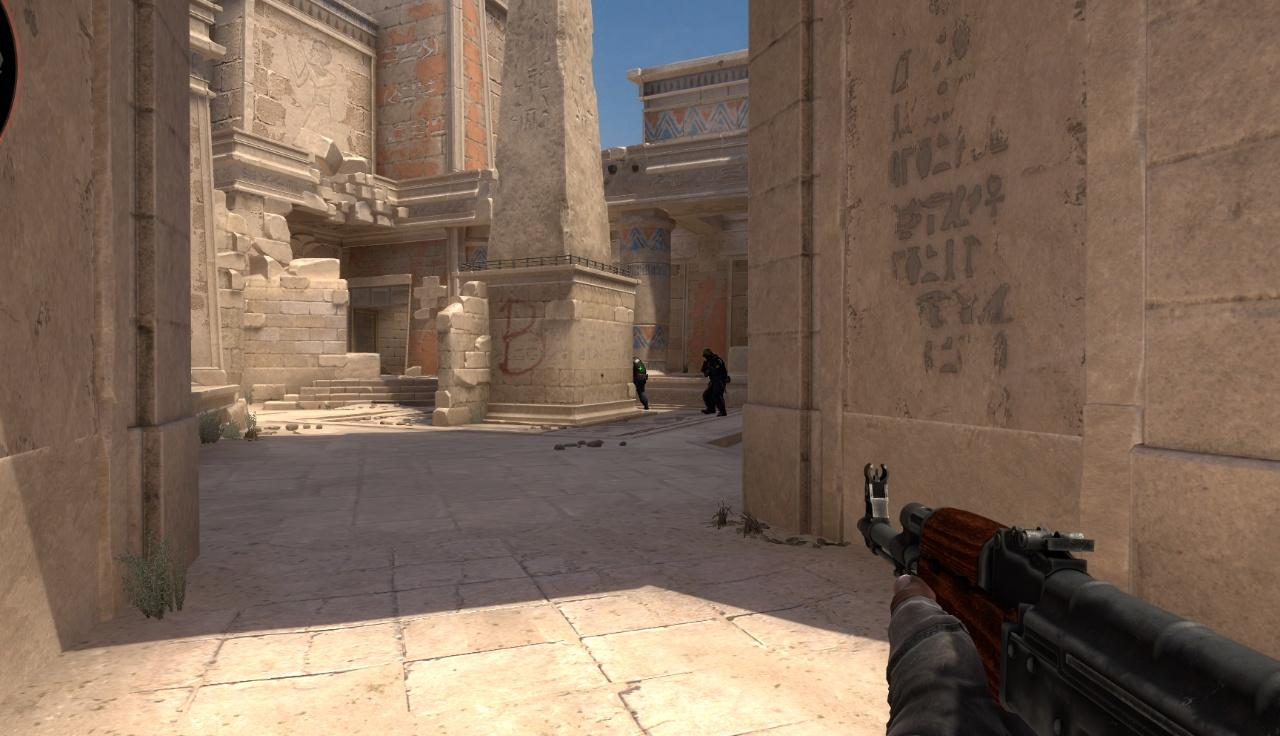ct: (702, 349, 726, 414), (633, 356, 649, 411)
cthead: (704, 350, 714, 363)
rifle: (867, 470, 1280, 736)
